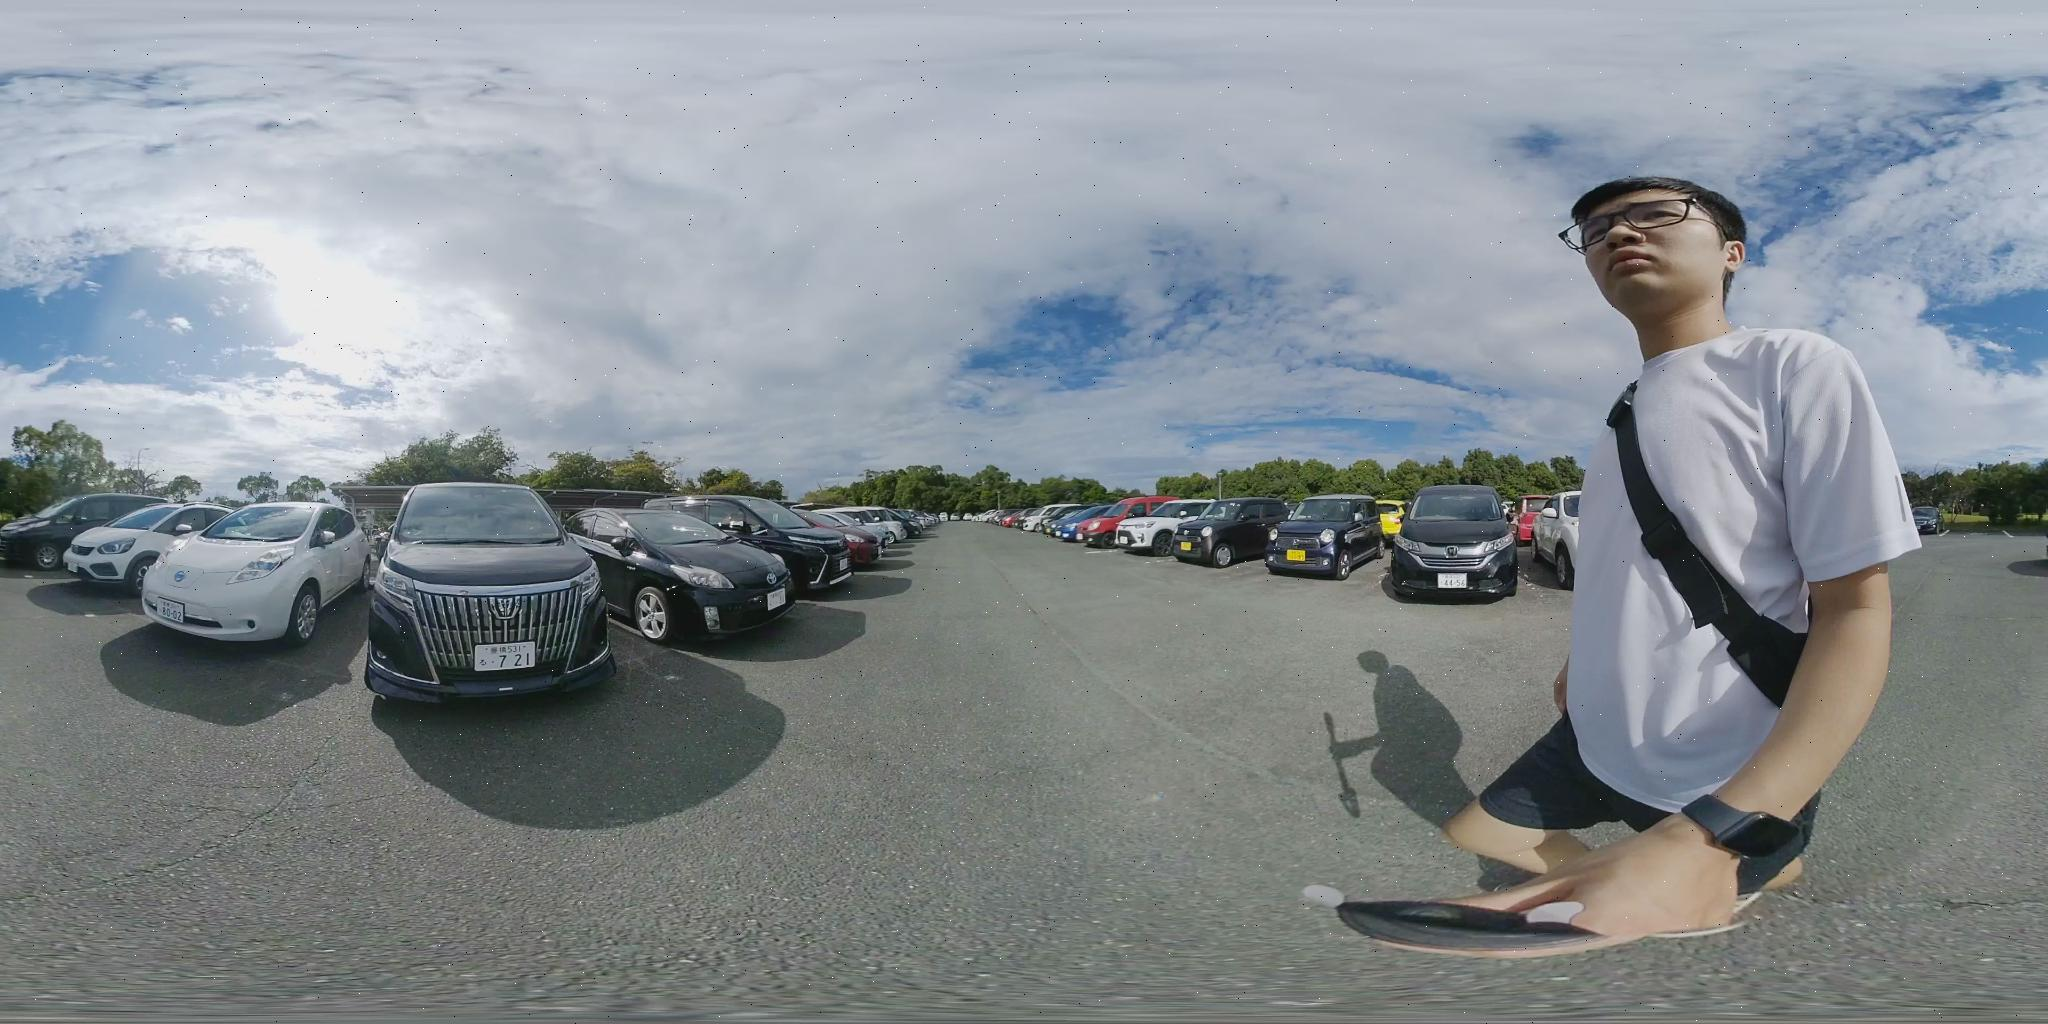car: (360, 485, 619, 700), (137, 500, 380, 644), (556, 505, 803, 640), (630, 496, 863, 590), (63, 503, 234, 585), (1394, 485, 1520, 593), (0, 492, 170, 567), (1113, 498, 1289, 560), (1268, 494, 1384, 572), (1522, 491, 1580, 590), (1101, 498, 1211, 550), (803, 509, 910, 559), (1054, 507, 1123, 543)
